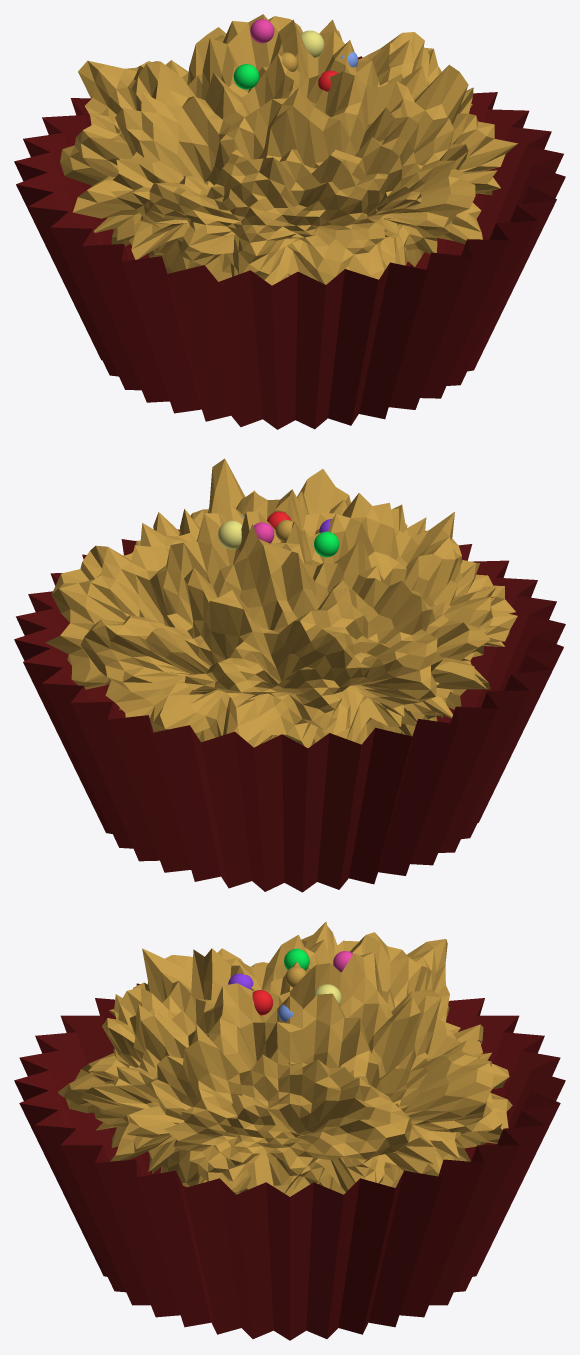
File: cornflakemadu.fbx
The picture shows the model from 3 angles, top to bottom: view 1: azimuth 30°, elevation 25°; view 2: azimuth 150°, elevation 25°; view 3: azimuth 270°, elevation 25°; orthographic projection.
Parts seen in each view (by area): view 1: Cornflake; view 2: Cornflake; view 3: Cornflake.
Part boxes in pixels (x1,y1,x2,y2): Cornflake: [14, 14, 565, 429]; Cornflake: [14, 458, 565, 892]; Cornflake: [14, 921, 565, 1340].
Bounding box in the file's own units: 200 × 124 × 200.
